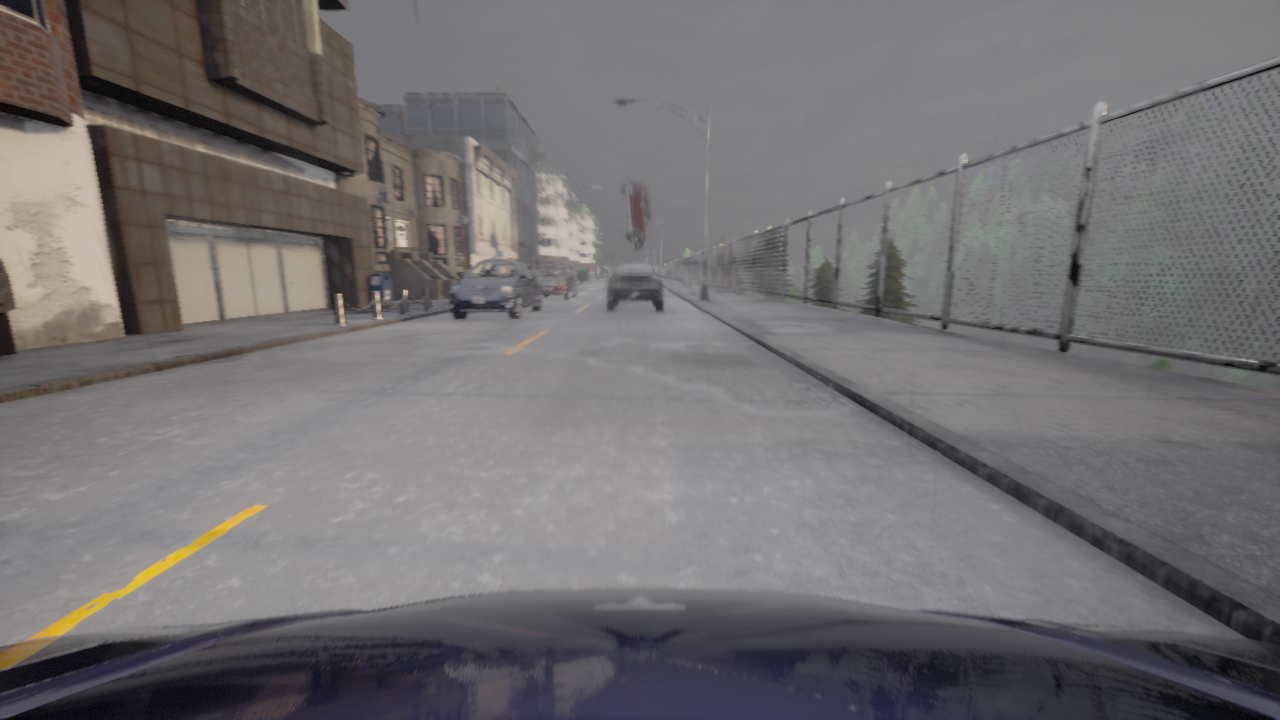cyclist: (0, 588, 1279, 719), (449, 259, 541, 319), (605, 262, 665, 310), (621, 177, 651, 250), (536, 266, 576, 299)
